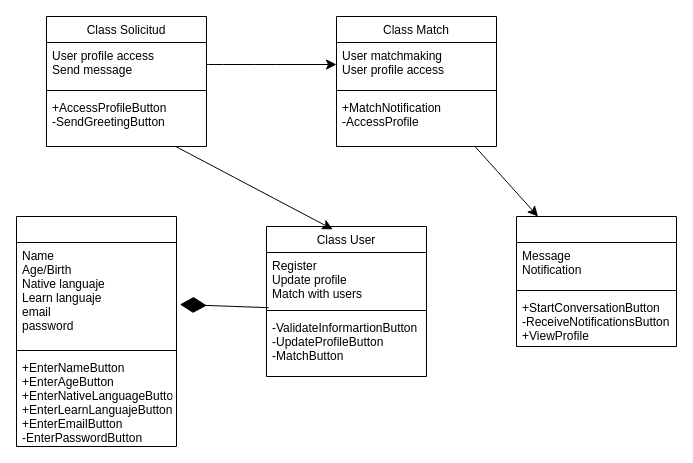
The diagram is 693 pixels wide and 463 high, and some of its shapes have lost their labels. The box of each missing label's shape, as (x1, y1, x2, y2) in pixels:
Clase Conversation: (516, 216, 676, 346)
Class Register: (16, 216, 176, 446)
